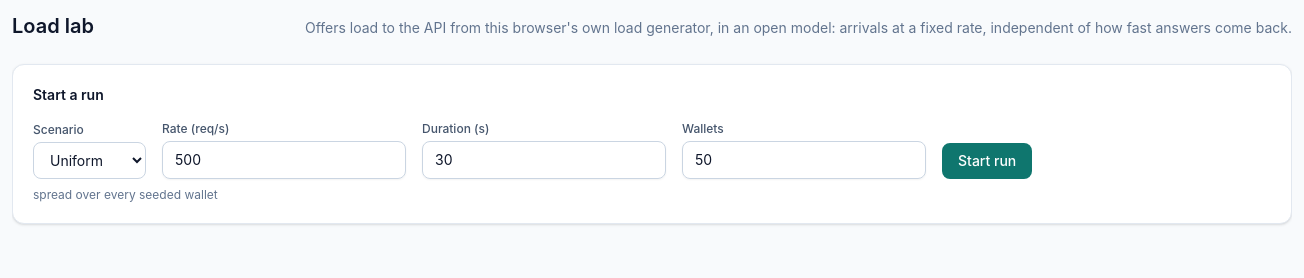
Test case: LoadLabPage › a run already in progress is reported
Replace the text in the field labelled "Duration (s)" with "5" at (544, 160), box [422, 141, 666, 179]
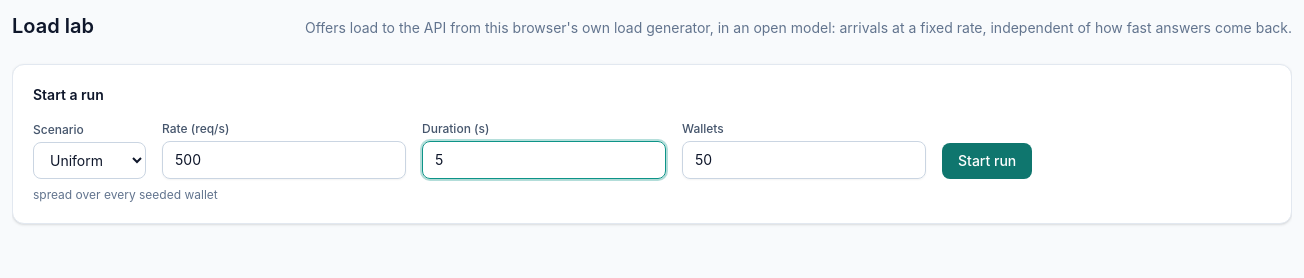
Click the button "Start run" at (987, 161), box [942, 143, 1032, 179]
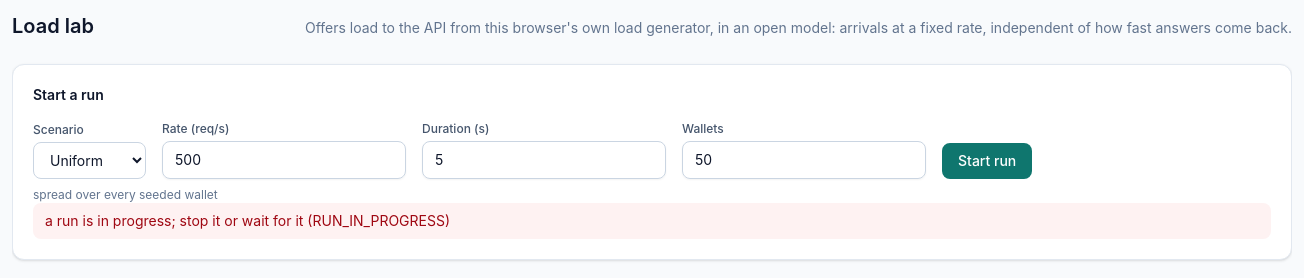
Check: the message shows "a run is in progress", box [45, 212, 450, 229]
